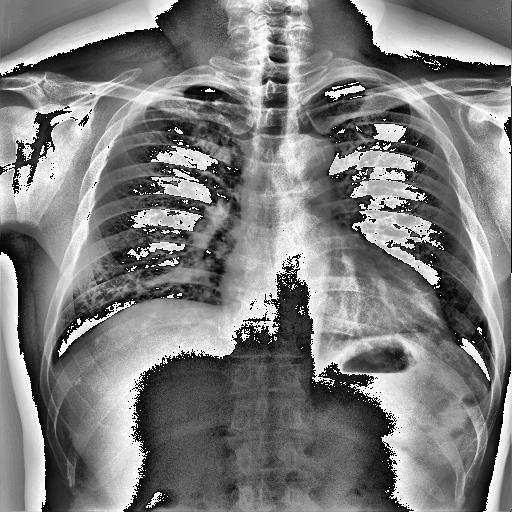0- Aortic enlargement: (274, 132, 335, 176)
11- Pleural thickening: (378, 78, 422, 105), (330, 76, 376, 88), (165, 88, 221, 96)
13- Pulmonary fibrosis: (130, 85, 234, 157), (144, 98, 232, 146)
3- Cardiomegaly: (218, 252, 450, 348)
6- Infiltration: (130, 85, 234, 157)
